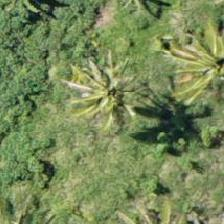coconut_tree: (60, 59, 150, 149)
